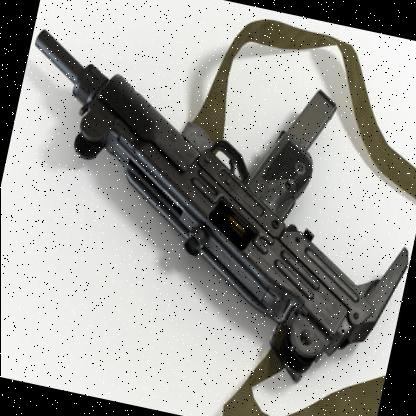rifle: (0, 10, 416, 395)
